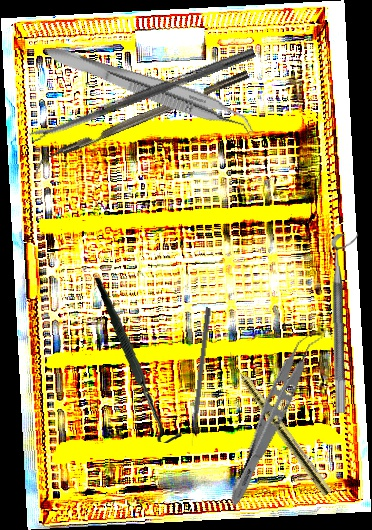Chopper: (28, 70, 254, 177)
Fixation Ring: (330, 233, 363, 413)
Handpiece: (222, 350, 334, 497)
Hook Surgical: (81, 277, 195, 445)
Pusher: (187, 307, 212, 446)
Surgical Spoon: (28, 46, 257, 143)
Tissue Forceps: (40, 42, 262, 140), (224, 323, 326, 515)
